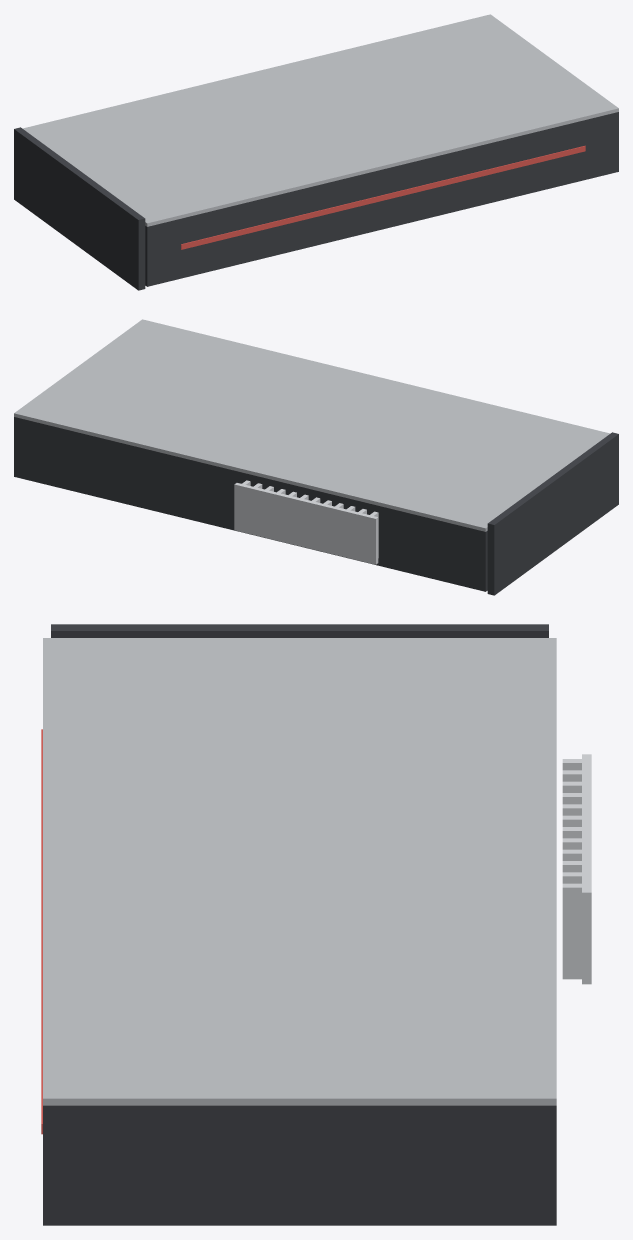
Rendered from sample-parts.glb.
3 views of the same model, one above another, from view 1: azimuth 30°, elevation 25°; view 2: azimuth 150°, elevation 25°; view 3: azimuth 270°, elevation 25° (orthographic). The views are drawn at different scales.
Parts seen in each view (by area): view 1: gpu; view 2: gpu, Heatsink_M2; view 3: gpu, Heatsink_M2.
Boxes of the visible parts, x1=… form: gpu: x1=14, y1=14, x2=618, y2=290; gpu: x1=14, y1=319, x2=618, y2=595; Heatsink_M2: x1=234, y1=480, x2=378, y2=564; gpu: x1=41, y1=624, x2=556, y2=1225; Heatsink_M2: x1=562, y1=754, x2=591, y2=984.
Size of the model in its own units: 284 by 42.5 by 142.
